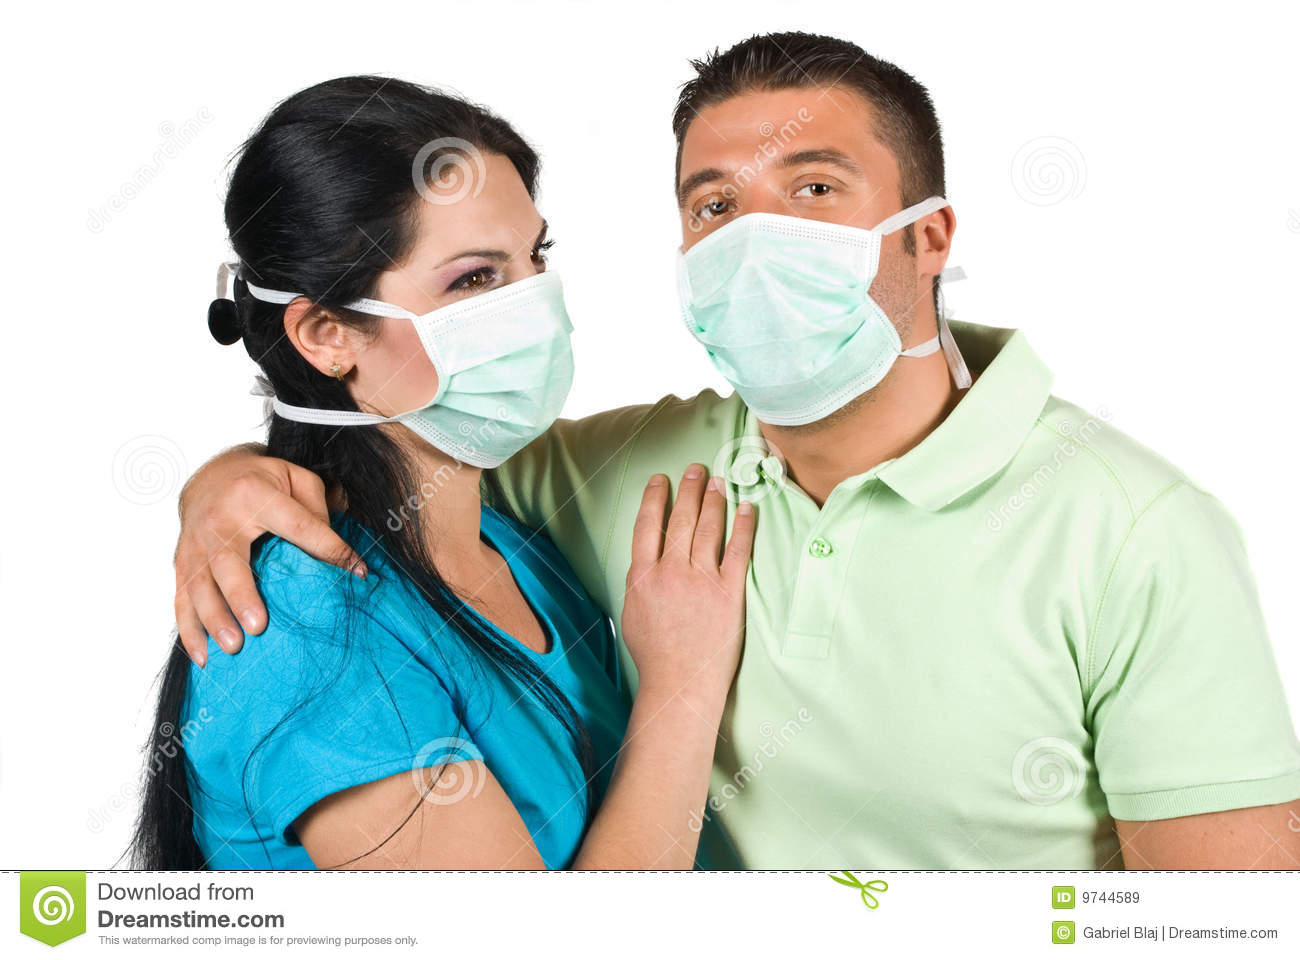mask: (681, 214, 904, 426), (415, 276, 576, 476)
